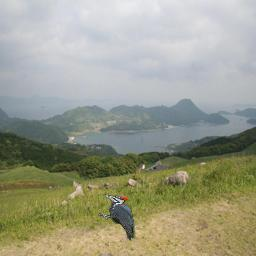Woodpecker: (98, 194, 137, 241)
